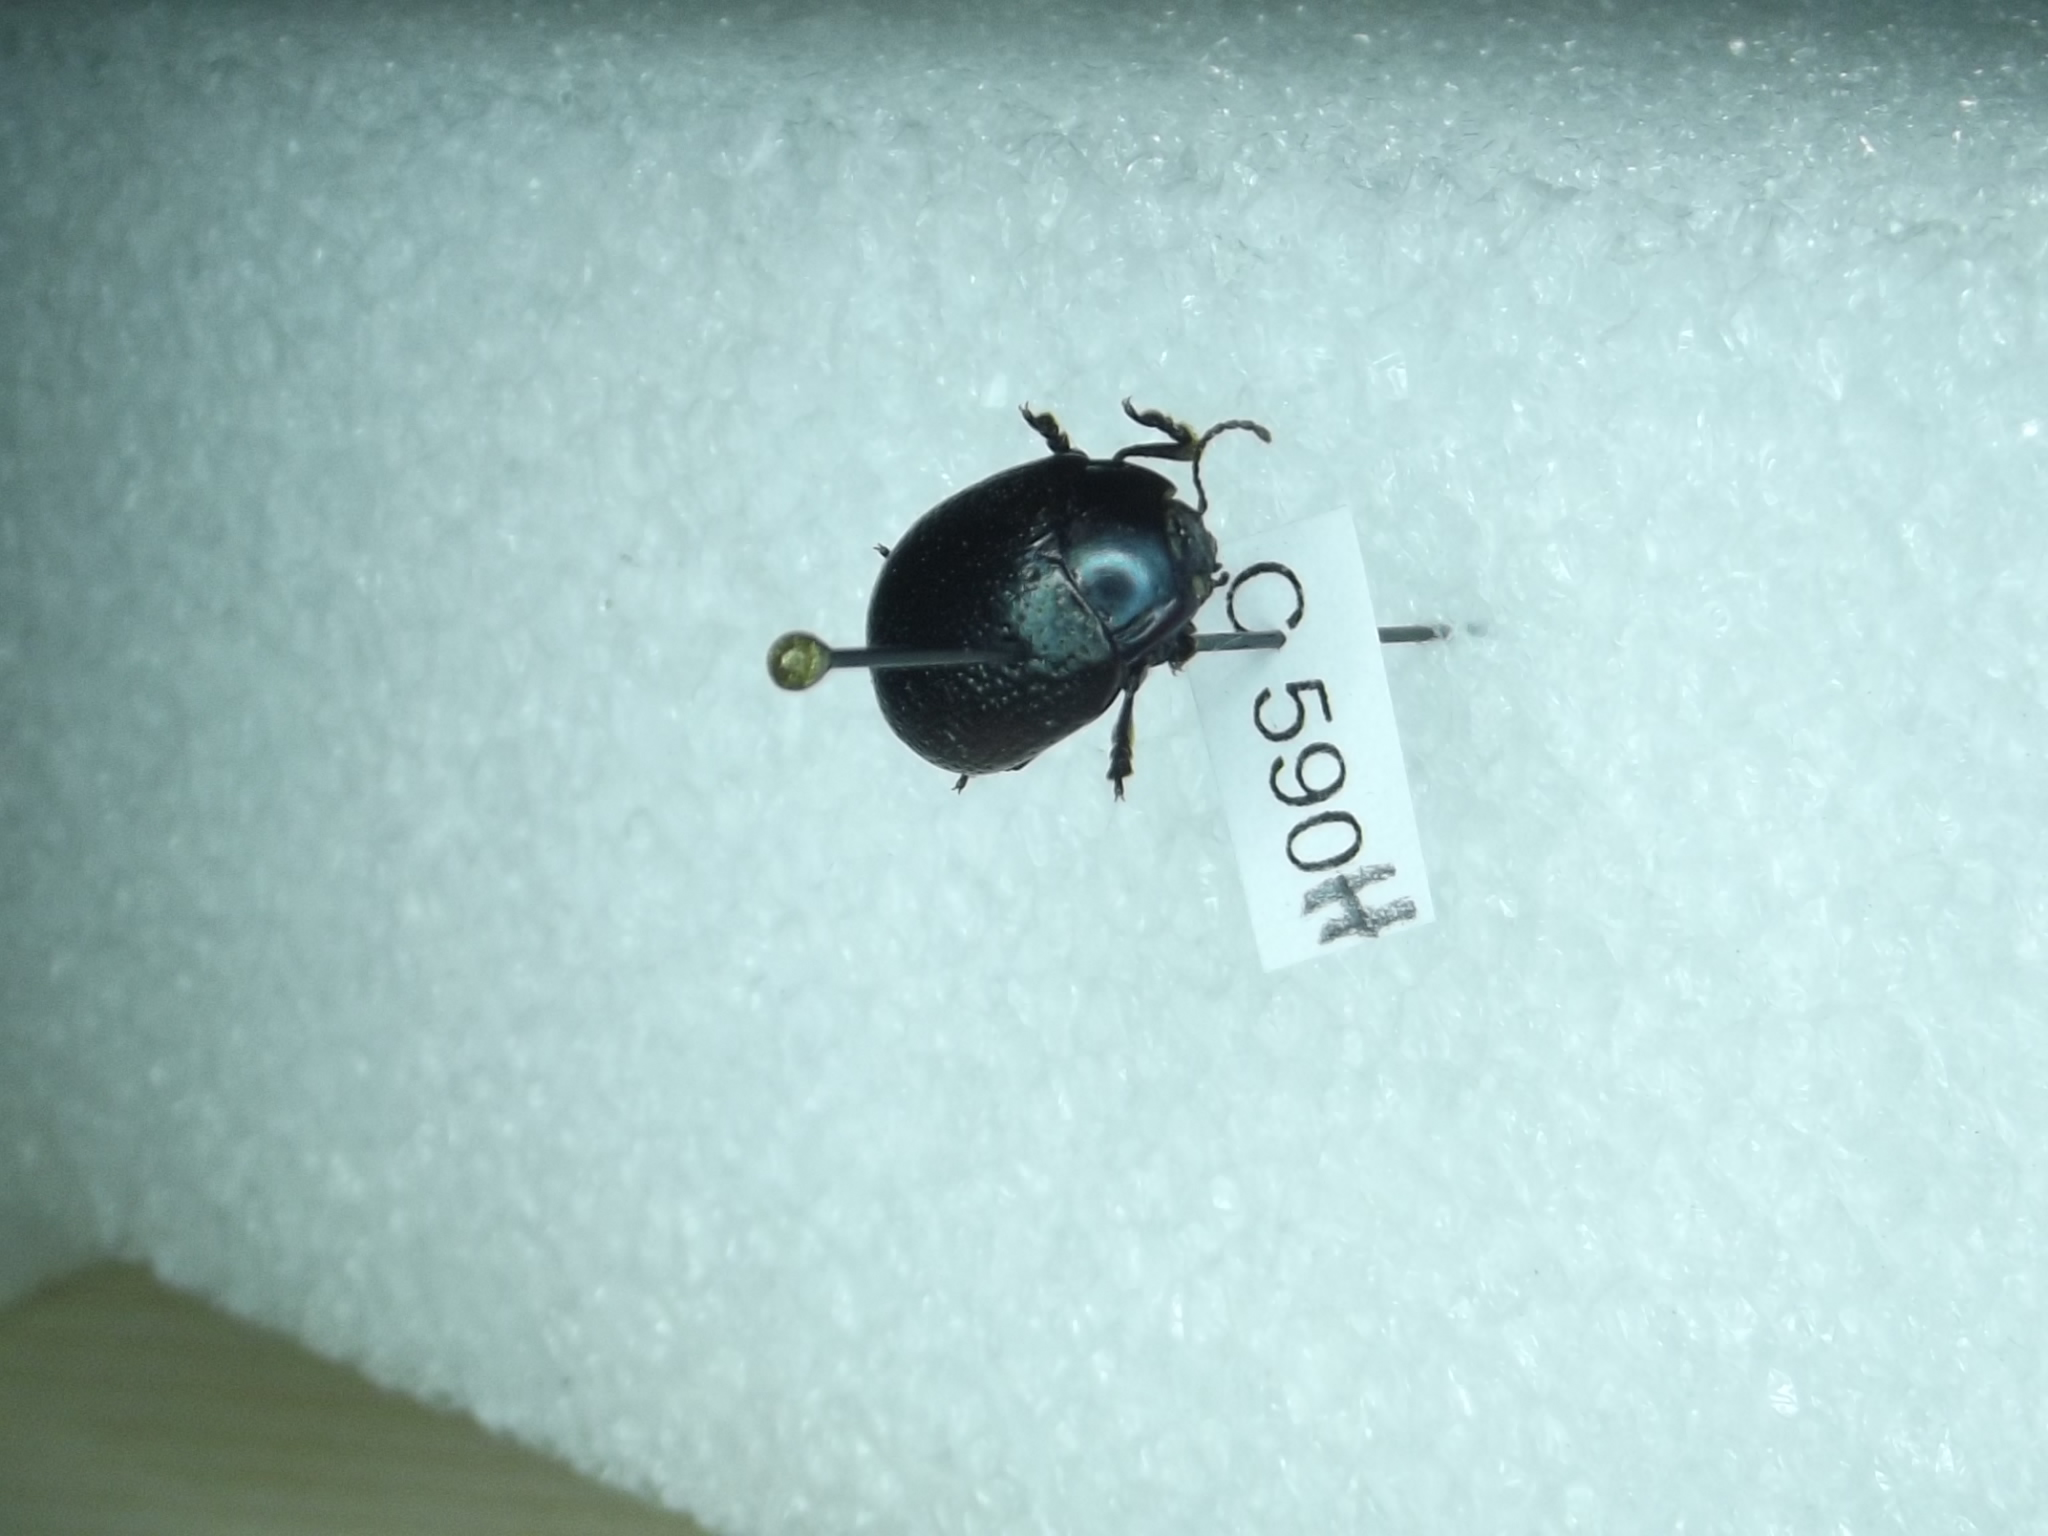Chrysolina_oricalcia: (868, 387, 1282, 797)
